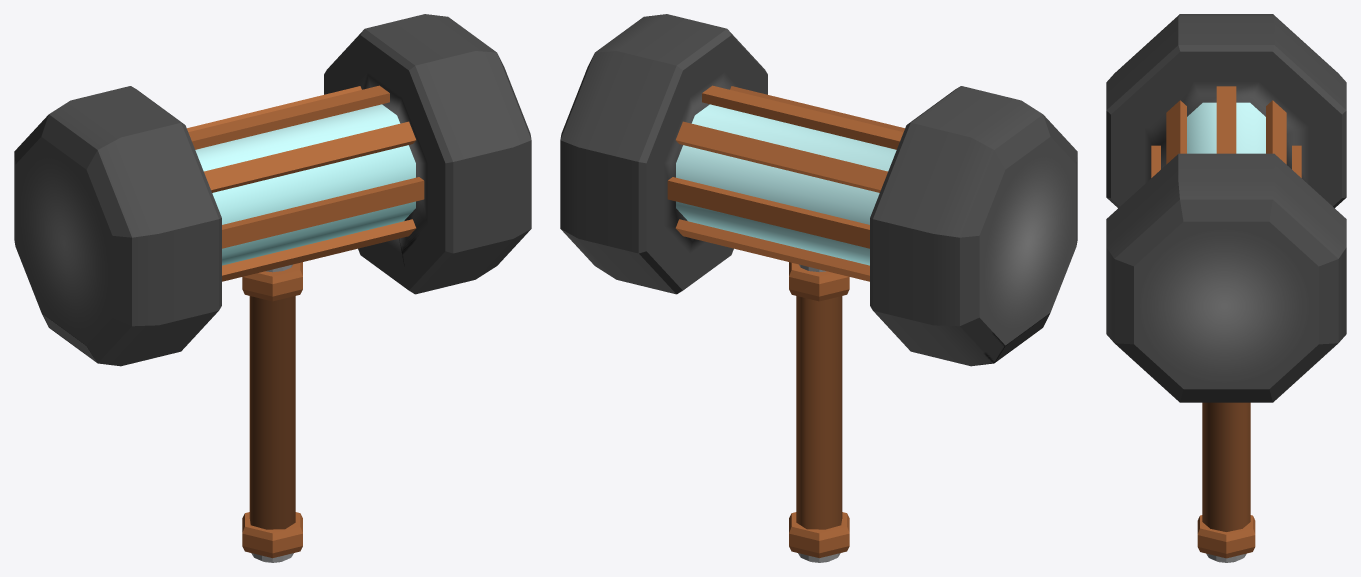
Rendered from Hammer_Lv5.fbx.
The picture shows the model from 3 angles, left to right: view 1: azimuth 30°, elevation 25°; view 2: azimuth 150°, elevation 25°; view 3: azimuth 270°, elevation 25°; orthographic projection. The views are drawn at different scales.
Visible parts, largest first — view 1: pCube1, pCube4, pCube16, pCube14, pCube13, pCube18, pCylinder5, pCylinder4, pCube17; view 2: pCube1, pCube4, pCube17, pCube15, pCube13, pCube19, pCylinder5, pCylinder4, pCube16; view 3: pCube1, pCube4, pCylinder5, pCube13, pCube17, pCube16.
Part boxes in pixels (<box>): pCube1: <box>14,14,531,366</box>; pCube4: <box>249,296,295,529</box>; pCube16: <box>204,121,415,192</box>; pCube14: <box>222,177,424,248</box>; pCube13: <box>188,85,389,149</box>; pCube18: <box>222,219,416,281</box>; pCylinder5: <box>242,512,302,558</box>; pCylinder4: <box>242,262,302,301</box>; pCube17: <box>187,86,361,131</box>; pCube1: <box>560,14,1077,366</box>; pCube4: <box>796,296,842,529</box>; pCube17: <box>676,121,887,192</box>; pCube15: <box>667,177,869,248</box>; pCube13: <box>702,85,903,149</box>; pCube19: <box>675,219,869,281</box>; pCylinder5: <box>789,512,849,558</box>; pCylinder4: <box>789,262,849,301</box>; pCube16: <box>730,86,904,131</box>; pCube1: <box>1106,14,1346,402</box>; pCube4: <box>1202,402,1250,531</box>; pCylinder5: <box>1197,515,1255,558</box>; pCube13: <box>1216,86,1236,153</box>; pCube17: <box>1266,100,1286,164</box>; pCube16: <box>1166,100,1186,164</box>.
Bounding box in the file's own units: 4.43 × 4.88 × 2.32.
